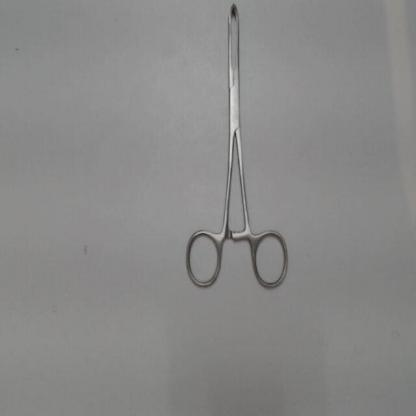Allis Tissue Forceps: (179, 2, 298, 298)
